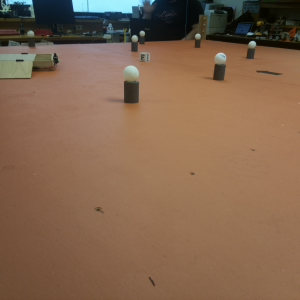obstacle: (122, 65, 141, 104), (213, 54, 229, 81), (247, 41, 256, 60), (131, 36, 140, 52), (27, 32, 35, 49), (194, 34, 200, 49), (140, 31, 146, 45)
side: (35, 51, 63, 71)
slope: (1, 62, 34, 80)
